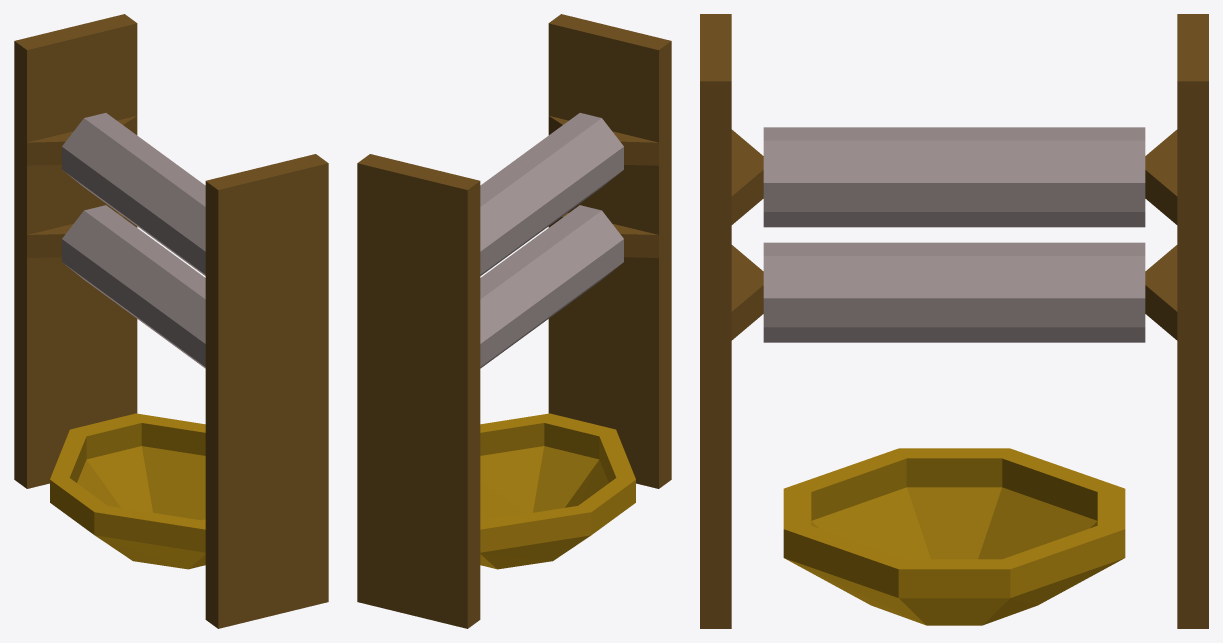
File: obj_mangle_1_0.obj
3 views of the same model, side by side, from view 1: azimuth 30°, elevation 25°; view 2: azimuth 150°, elevation 25°; view 3: azimuth 270°, elevation 25° (orthographic). The views are drawn at different scales.
Size of the model in its own units: 0.5625 by 1.19 by 1.
